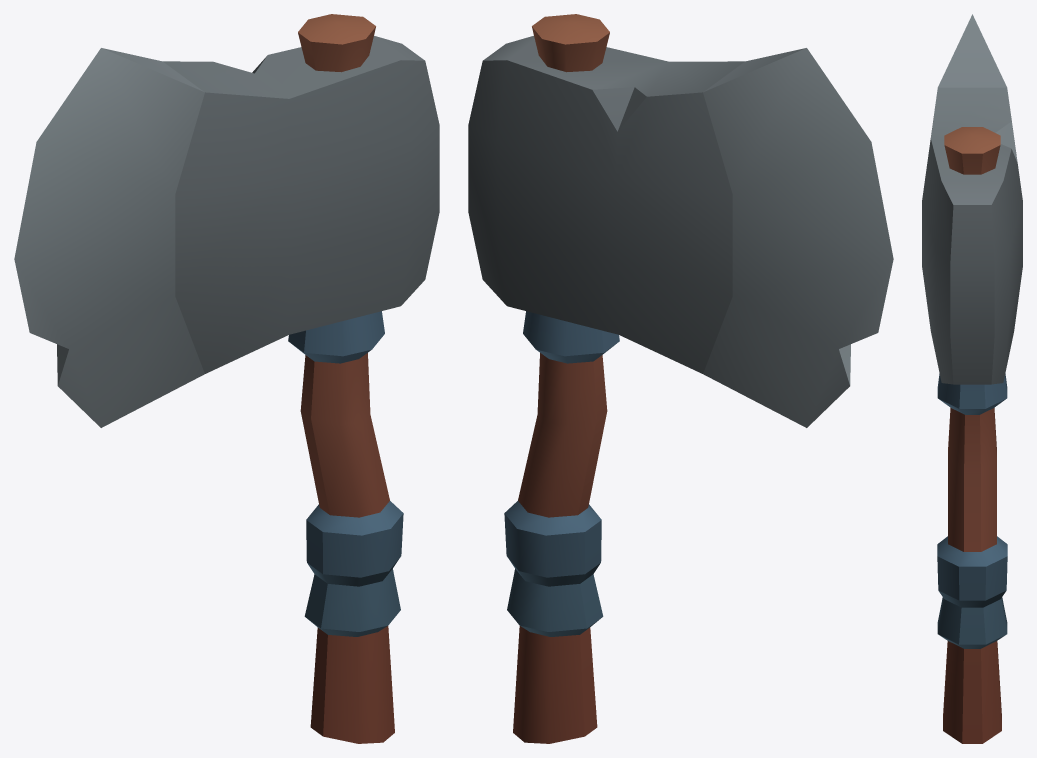
The model's file is gear-axe-1handed.glb.
3 renders of one model, left to right at view 1: azimuth 30°, elevation 25°; view 2: azimuth 150°, elevation 25°; view 3: azimuth 270°, elevation 25°, orthographic. The views are drawn at different scales.
Parts seen in each view (by area): view 1: axe_1handed; view 2: axe_1handed; view 3: axe_1handed.
Part boxes in pixels (<box>): axe_1handed: <box>14,14,439,743</box>; axe_1handed: <box>468,14,893,743</box>; axe_1handed: <box>922,14,1022,743</box>.
Bounding box in the file's own units: 0.7143 × 1.24 × 0.185.
